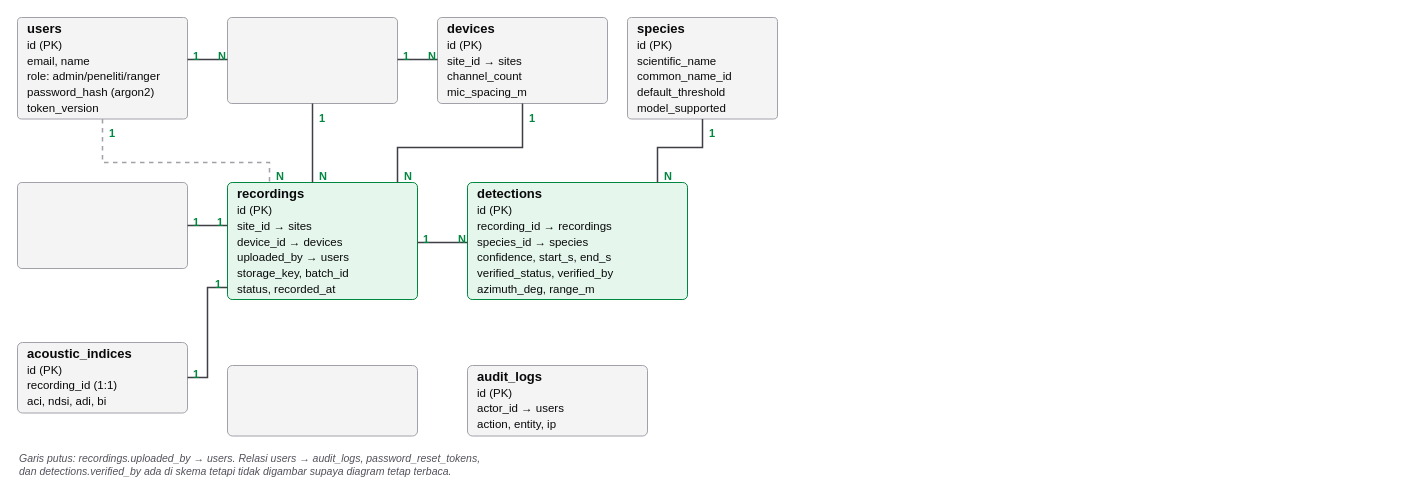
This 1425x495 diagram has some shape labels left out. Here are the shapes that lost their labels. From the top down, the centre of each, then its label:
At point 312,60: "sites id (PK) name, habitat_type location (PostGIS) owner_id → users".
At point 102,225: "jobs id (PK) recording_id (1:1) status, progress, stage attempts, last_error".
At point 322,400: "password_reset_tokens id (PK) user_id → users token_hash (SHA-256)".
